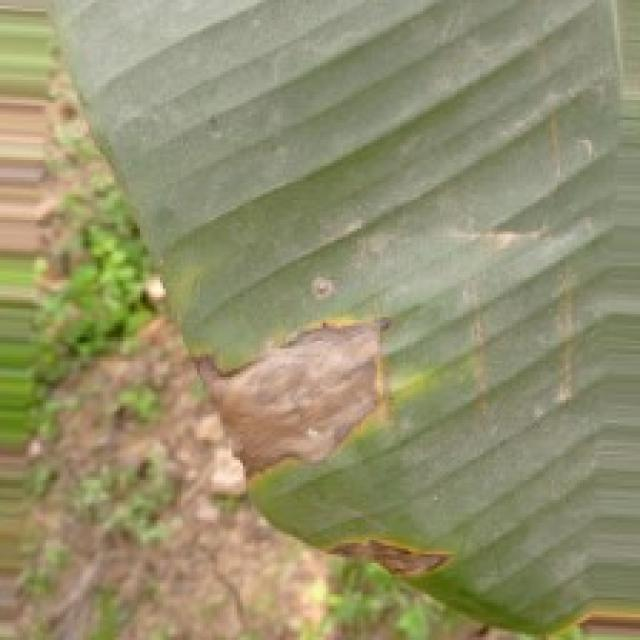Bacterial_spot: (188, 313, 401, 486), (320, 514, 470, 576), (299, 264, 338, 314)
